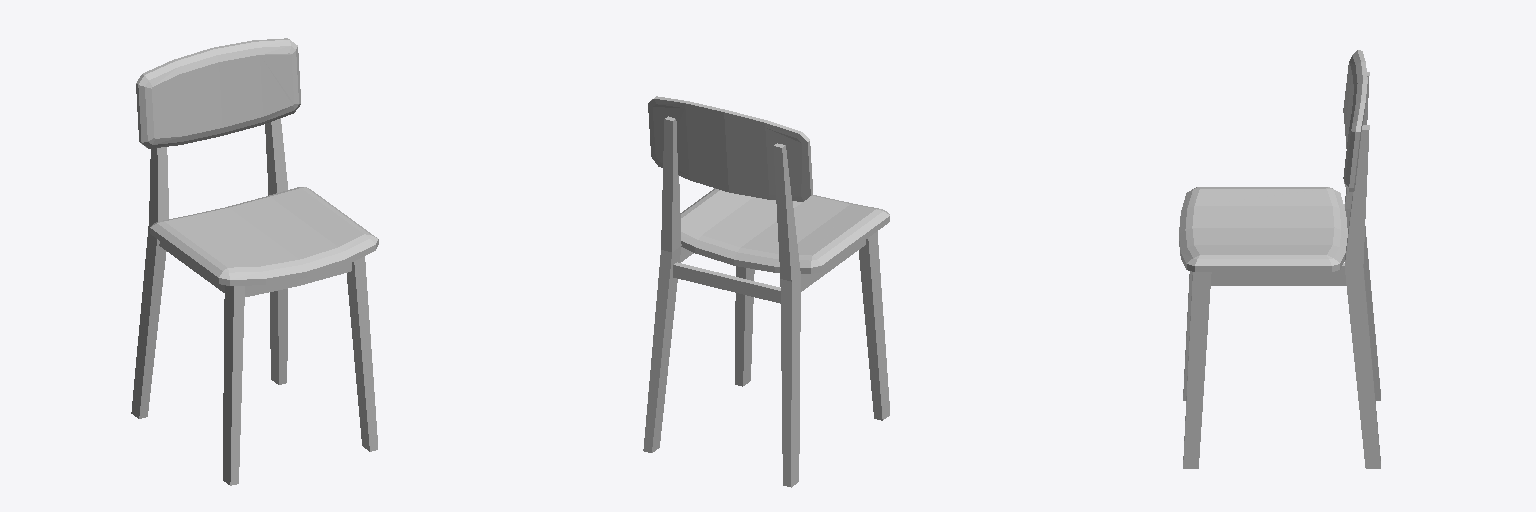
Rendered from chair_mp_4.obj.
3 views of the same model, side by side, from view 1: azimuth 30°, elevation 25°; view 2: azimuth 150°, elevation 25°; view 3: azimuth 270°, elevation 25° (orthographic).
Visible parts, largest first — view 1: chair_mp_4; view 2: chair_mp_4; view 3: chair_mp_4.
Boxes of the visible parts, <box> form: chair_mp_4: <box>131,38,378,485</box>; chair_mp_4: <box>643,96,889,487</box>; chair_mp_4: <box>1179,50,1380,468</box>.
Size of the model in its own units: 0.4763 by 1.01 by 0.5226.